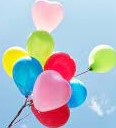Balloon: (31, 70, 71, 112), (30, 1, 65, 33), (88, 44, 116, 73), (27, 32, 53, 59)
